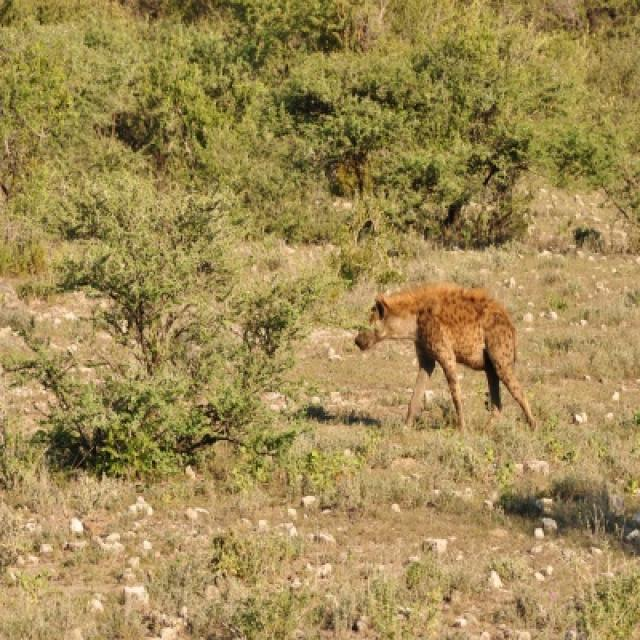hyena: (355, 285, 538, 429)
